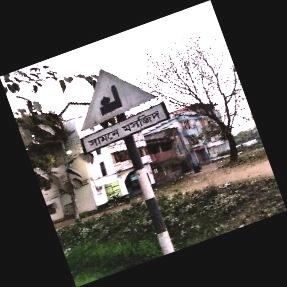Mosque in front: (77, 71, 166, 165)
